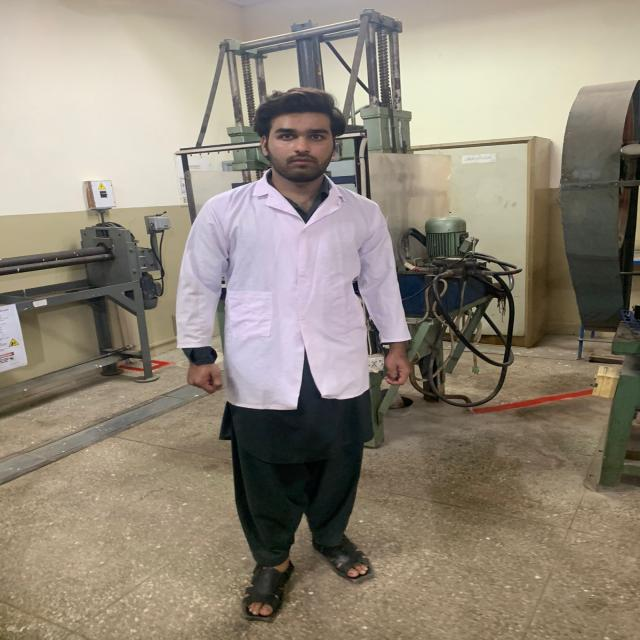labcoat: (176, 164, 416, 412)
